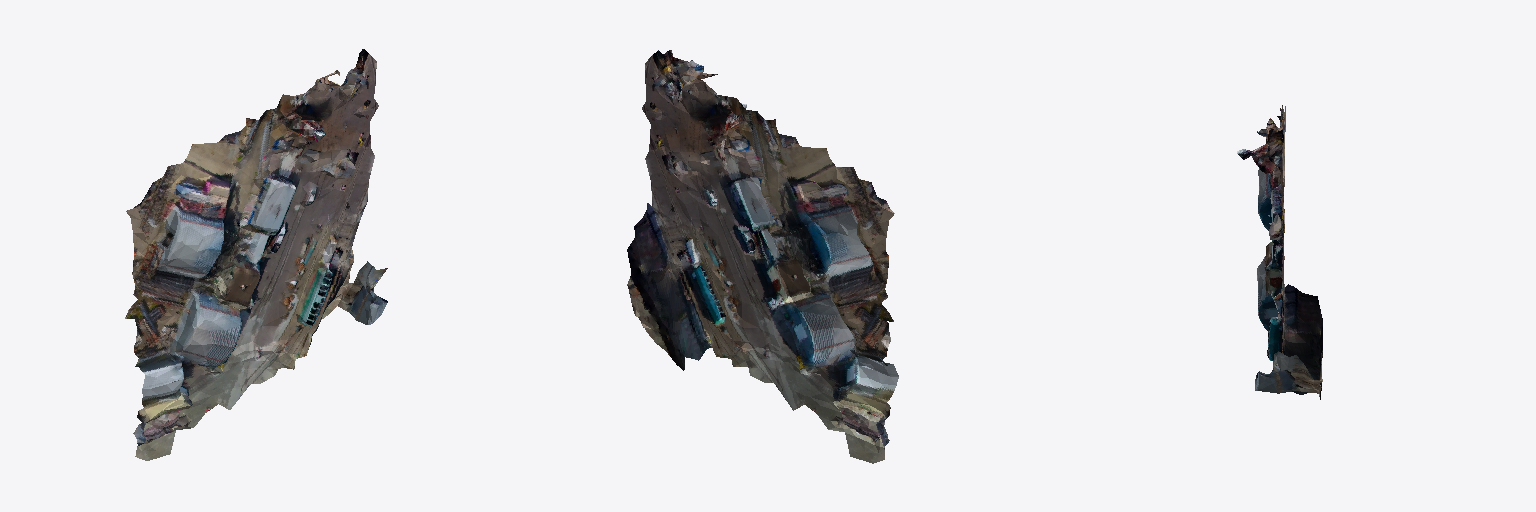
The picture shows the model from 3 angles: view 1: azimuth 30°, elevation 25°; view 2: azimuth 150°, elevation 25°; view 3: azimuth 270°, elevation 25°; orthographic projection.
Bounding box in the file's own units: 70.28 × 94.02 × 20.52.
1 materials, 1 textured.